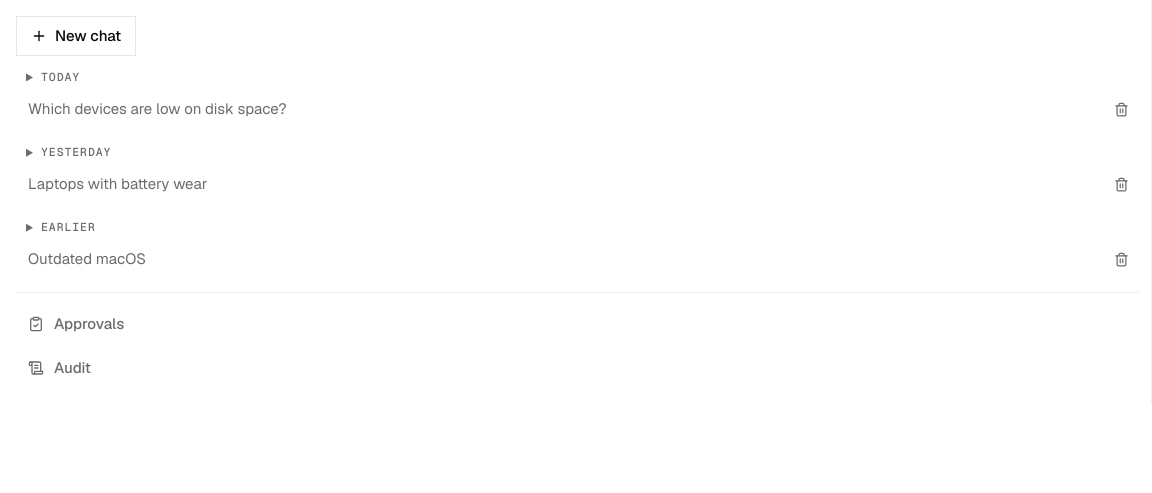
Scenario: the history sidebar › says so when a delete fails, and keeps the conversation
The width and height of the screenshot is (1152, 493).
What coordinates should you click on to do the following:
click the button named "Delete conversation: Outdated macOS"
I would click on:
 (1121, 259)
Its box is [1105,243,1137,275].
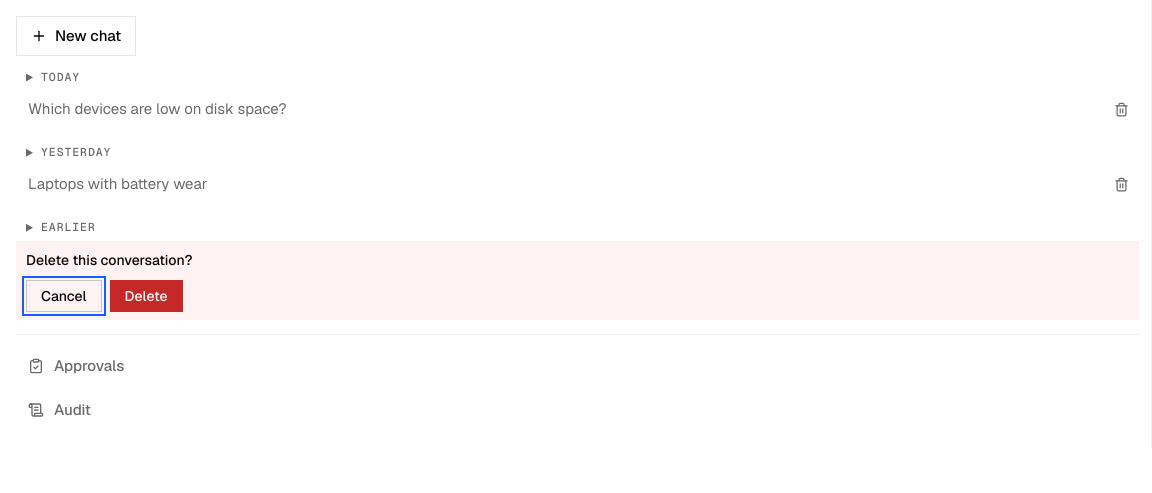
What coordinates should you click on to do the following:
click the button "Delete"
I would click on:
 (146, 296)
Its box is [110,280,183,312].
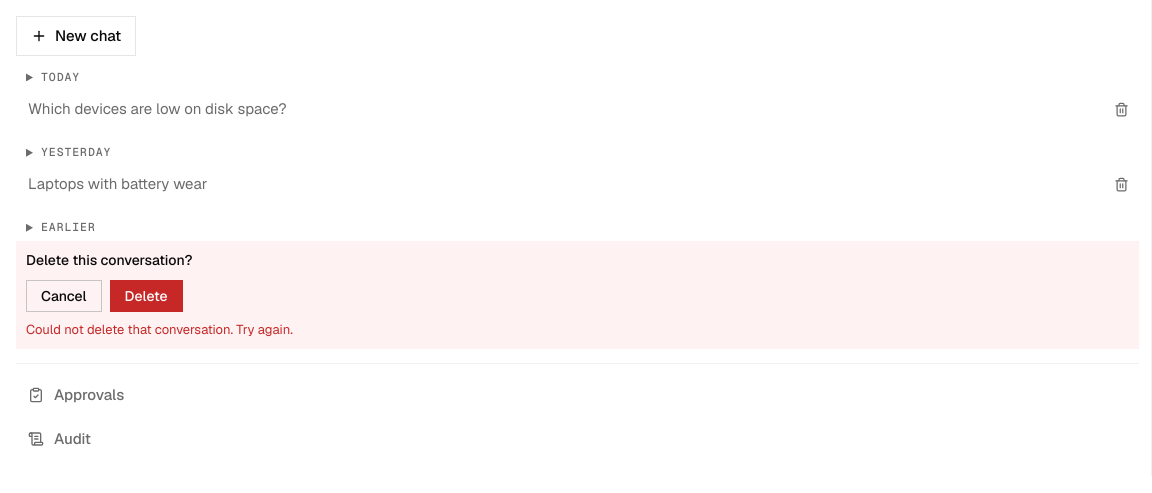
expect the message reads "Could not delete that conversation. Try again.": met, box [26,321,293,338]
What coordinates should you click on to do the following:
click the button "Cancel"
I would click on:
 (64, 296)
Its box is [26,280,102,312].
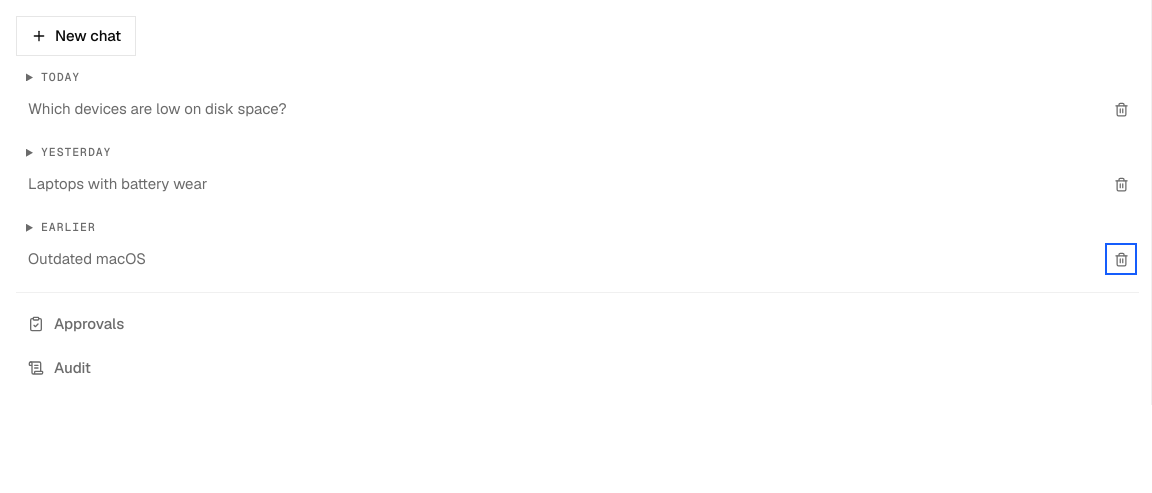
expect the button "Outdated macOS" is shown: met, box [16,241,1105,278]
expect the message "Could not delete that conversation. Try again." is gone: met
